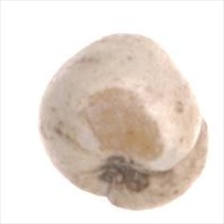L4: (39, 33, 209, 210)
